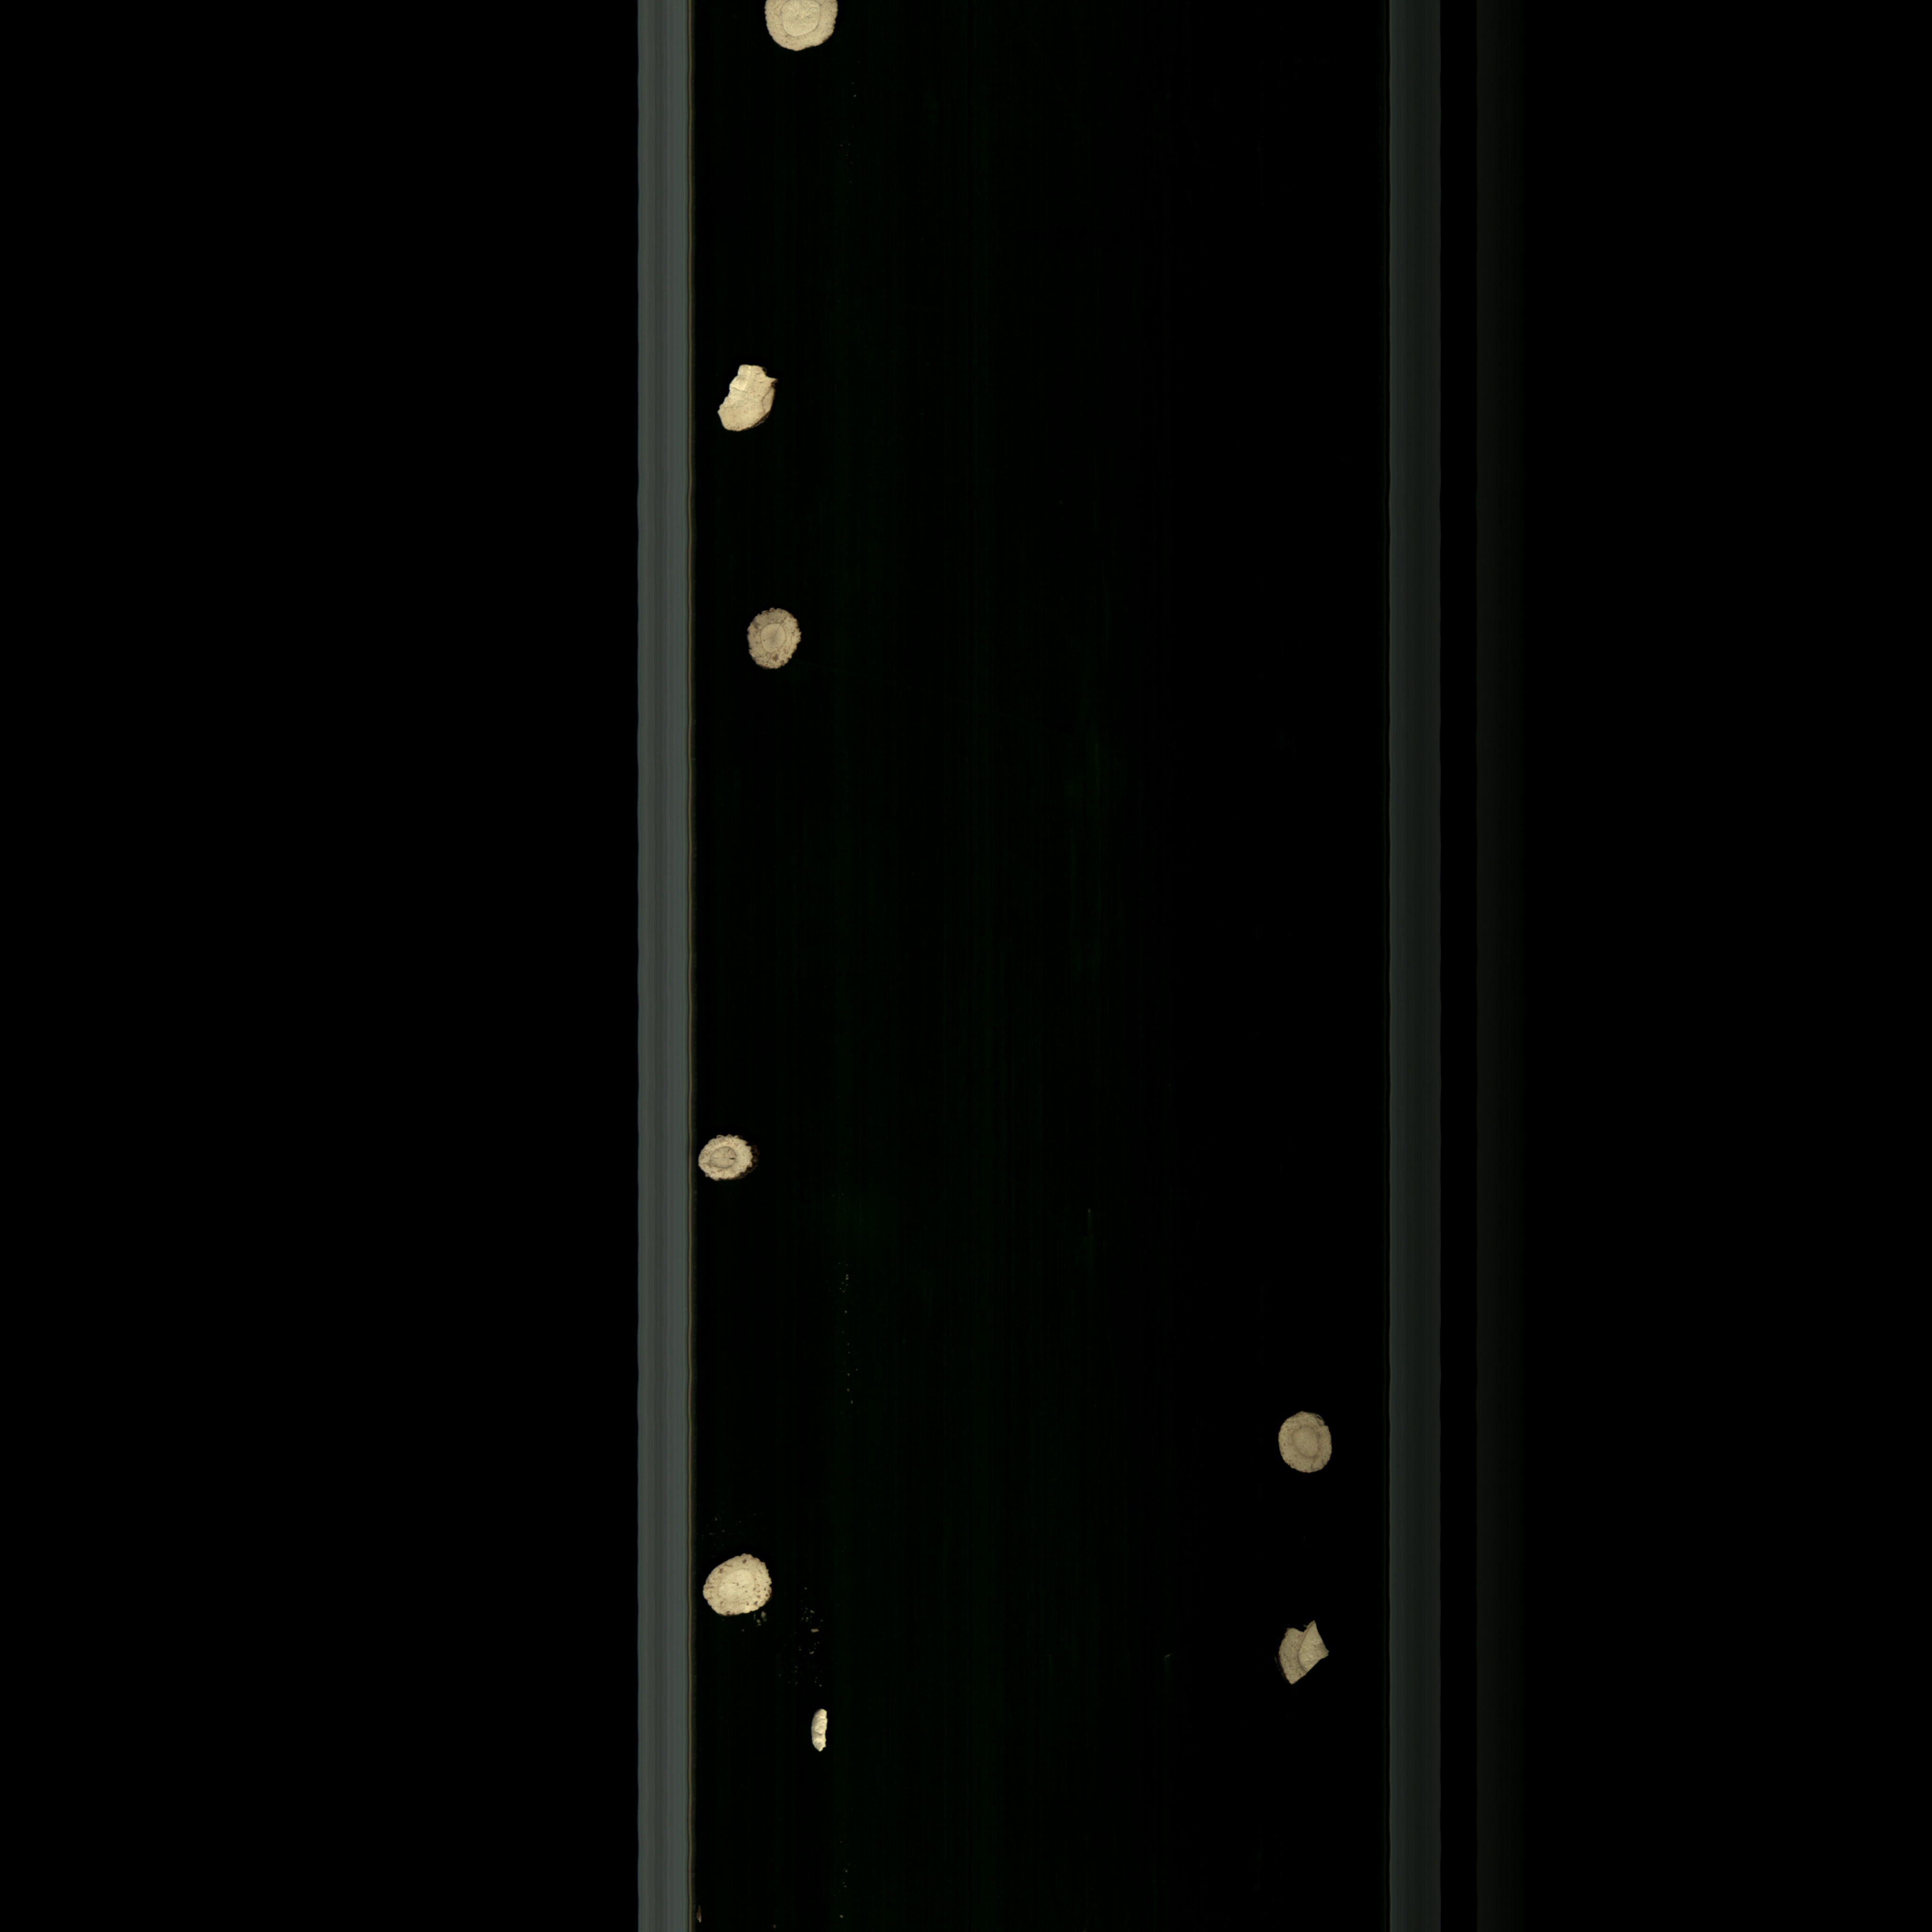debris: (717, 352, 794, 442), (1270, 1612, 1338, 1697)
dreg: (810, 1700, 835, 1757)
moldy: (741, 603, 809, 674), (694, 1131, 759, 1187), (800, 1621, 826, 1637)
